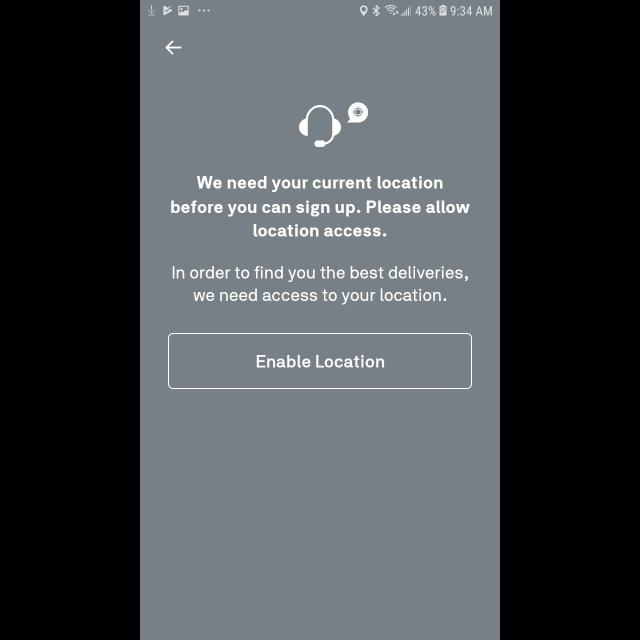icon: (347, 102, 369, 124), (165, 40, 181, 54)
image: (298, 104, 342, 148)
text: (170, 176, 470, 238), (172, 266, 468, 306)
textbutton: (168, 333, 472, 389)
uppertaskbar: (140, 1, 500, 18)
